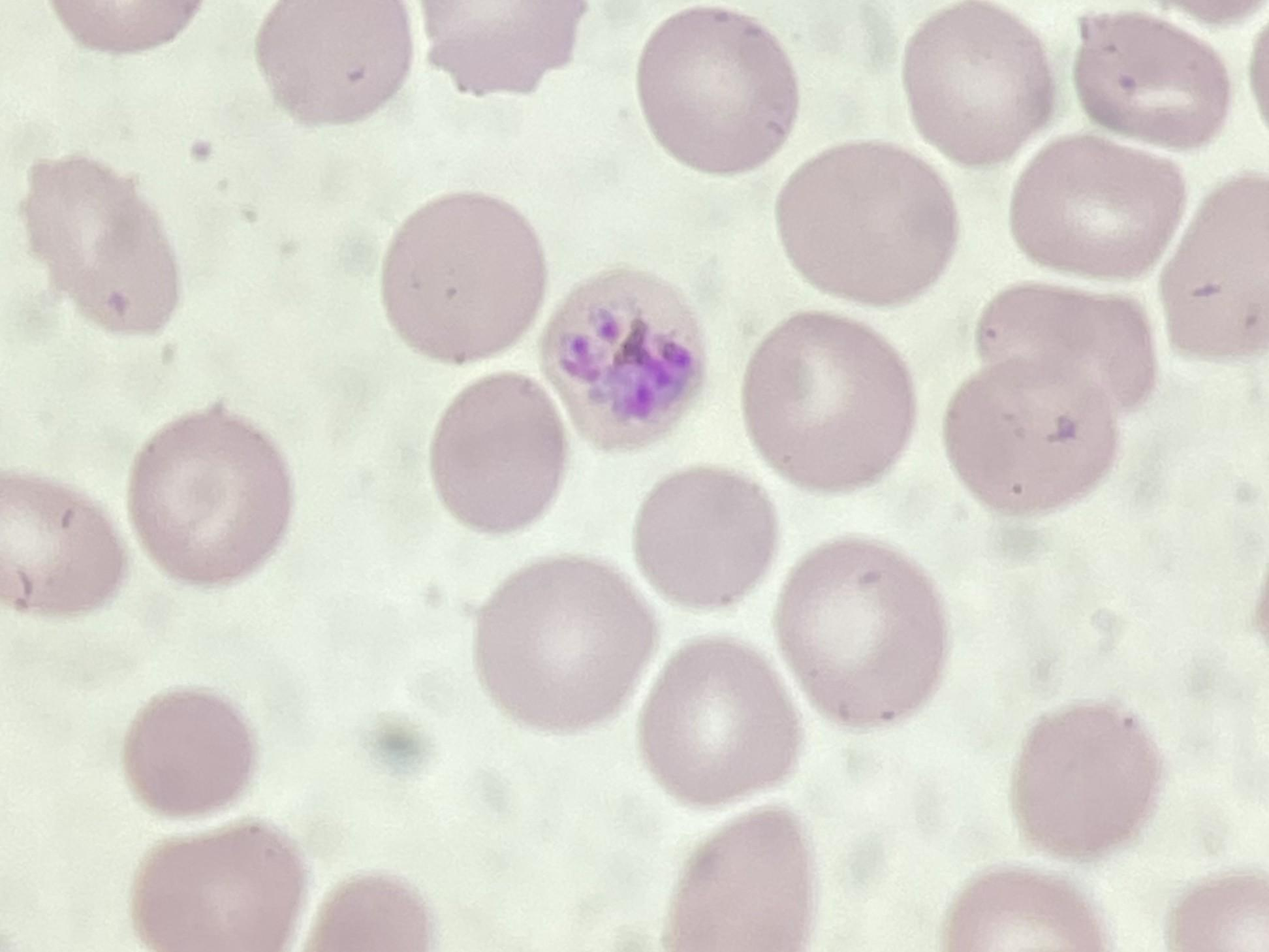Infected: (542, 267, 709, 449)
Uninfected: (775, 539, 950, 722), (740, 313, 913, 488), (475, 558, 653, 728), (779, 138, 959, 304), (127, 409, 294, 584), (945, 353, 1121, 514), (381, 195, 550, 360), (20, 157, 176, 335), (636, 9, 798, 173), (638, 642, 800, 805), (1010, 135, 1182, 279), (903, 3, 1055, 163), (980, 285, 1153, 417), (1012, 703, 1162, 855), (430, 375, 569, 532), (665, 808, 815, 952), (133, 826, 301, 950), (632, 466, 777, 607), (1077, 14, 1229, 148), (256, 2, 411, 123), (121, 690, 260, 819), (3, 473, 129, 614)
